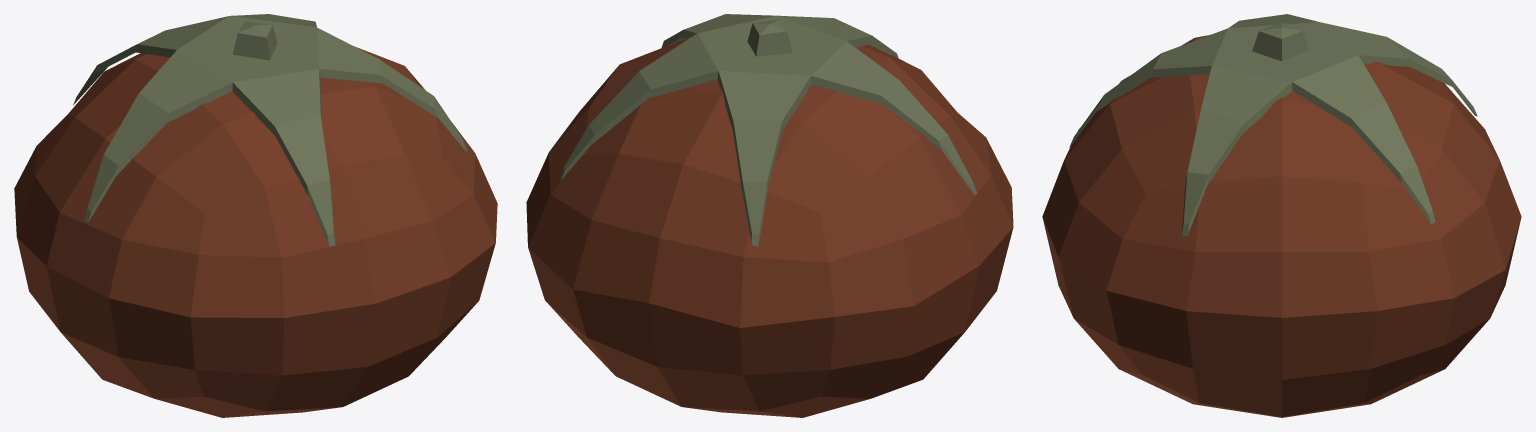
The model's file is tomato_crop.glb.
The picture shows the model from 3 angles, left to right: view 1: azimuth 30°, elevation 25°; view 2: azimuth 150°, elevation 25°; view 3: azimuth 270°, elevation 25°; orthographic projection.
Parts seen in each view (by area): view 1: Tomato_Crop; view 2: Tomato_Crop; view 3: Tomato_Crop.
Part boxes in pixels (x1,y1,x2,y2): Tomato_Crop: (14, 14, 497, 417); Tomato_Crop: (526, 14, 1013, 417); Tomato_Crop: (1042, 14, 1521, 417).
Bounding box in the file's own units: 0.178 × 0.1481 × 0.178.
